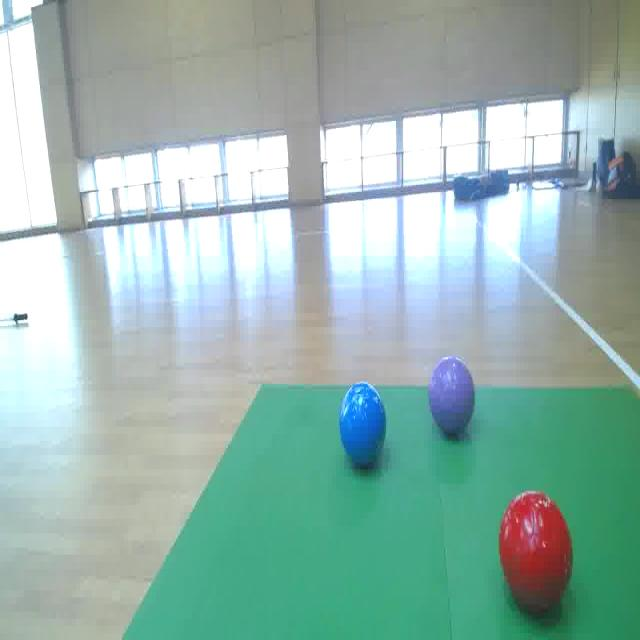blue_ball: (340, 372, 390, 472)
purple_ball: (422, 346, 482, 446)
red_ball: (506, 494, 576, 610)
